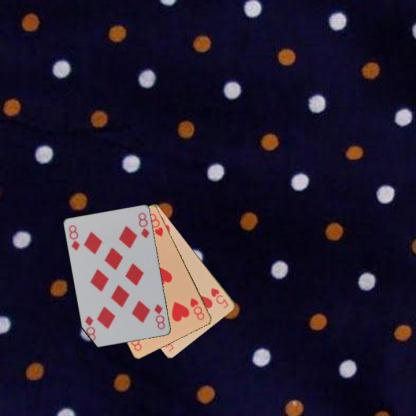5h: (208, 285, 230, 310)
8d: (66, 222, 81, 252), (152, 302, 166, 331)
8h: (187, 295, 206, 321)
